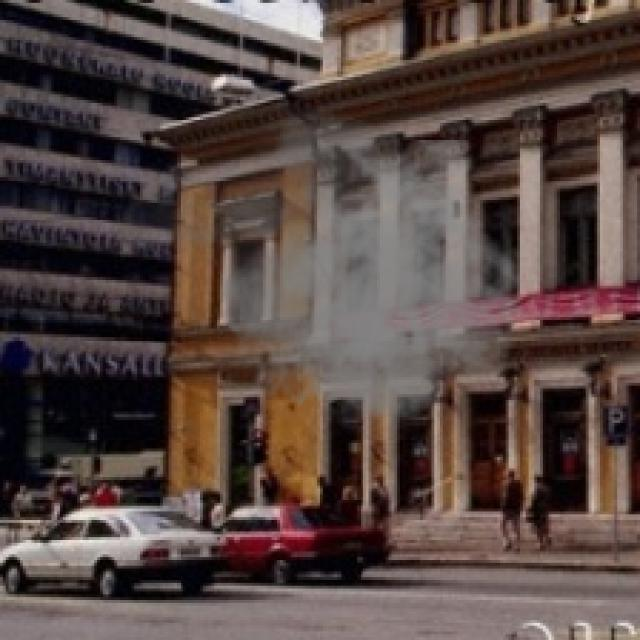Smoke: (108, 97, 534, 443)
